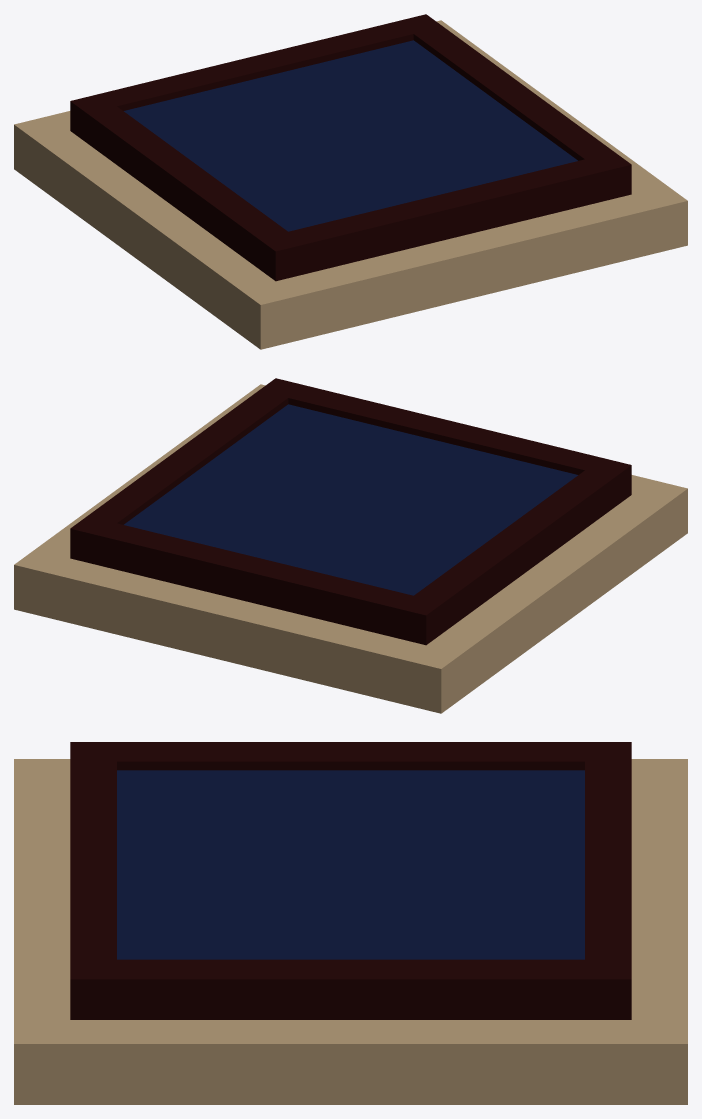
File: water.fbx
3 views of the same model, one above another, from view 1: azimuth 30°, elevation 25°; view 2: azimuth 150°, elevation 25°; view 3: azimuth 270°, elevation 25° (orthographic). The views are drawn at different scales.
Parts seen in each view (by area): view 1: geo3; view 2: geo3; view 3: geo3.
Part boxes in pixels (x1=…): geo3: x1=14, y1=14, x2=687, y2=349; geo3: x1=14, y1=378, x2=687, y2=713; geo3: x1=14, y1=742, x2=687, y2=1104.
Size of the model in its own units: 7.2 by 1.2 by 7.2.
